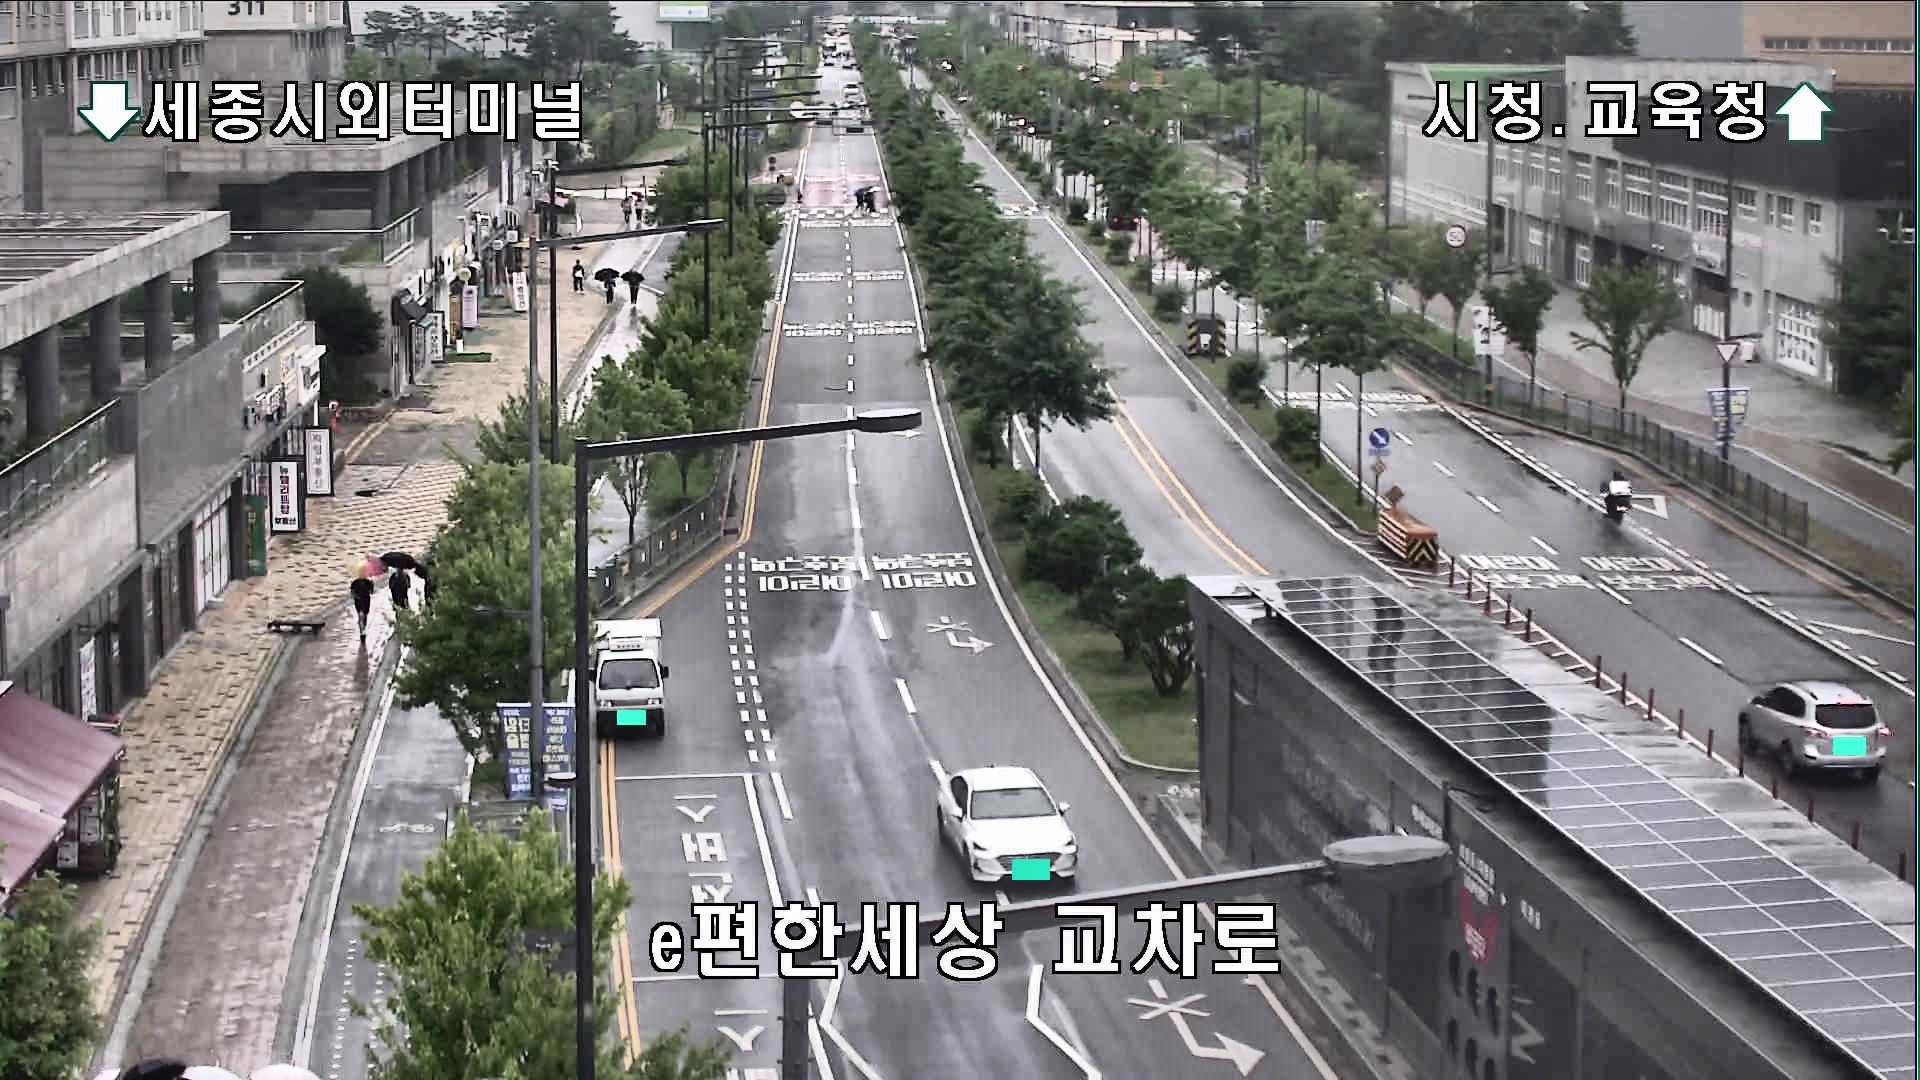sidewalk: (568, 257, 588, 297)
um_crosswalk: (865, 185, 885, 215), (852, 185, 870, 216)
um_sidewalk: (343, 554, 382, 644), (386, 549, 415, 629), (595, 266, 621, 309), (622, 266, 647, 309), (632, 189, 651, 229), (621, 193, 634, 224)
